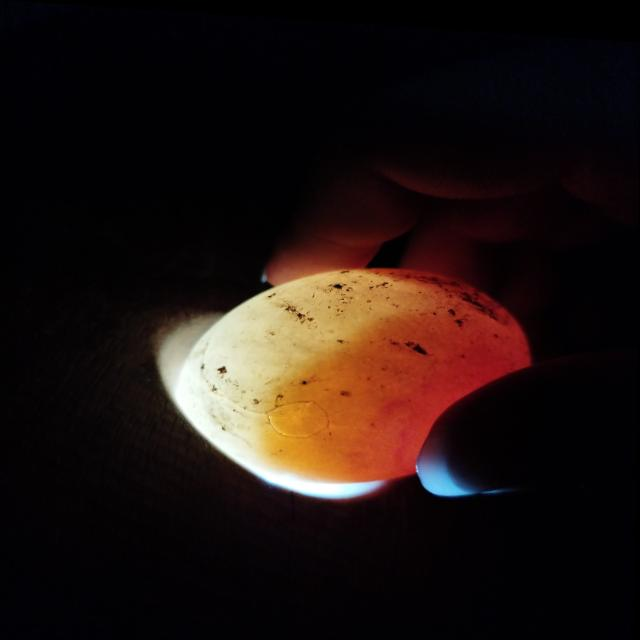Rachadura: (265, 396, 329, 433)
